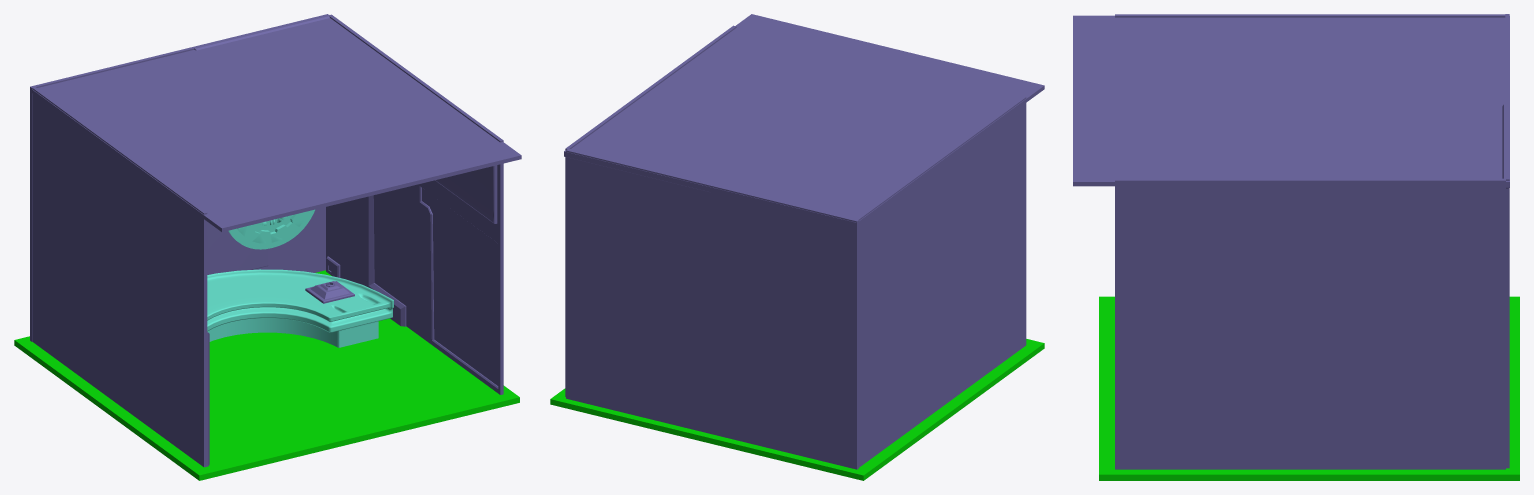
File: mesa vr.fbx
3 renders of one model, left to right at view 1: azimuth 30°, elevation 25°; view 2: azimuth 150°, elevation 25°; view 3: azimuth 270°, elevation 25°, orthographic. The views are drawn at different scales.
Parts seen in each view (by area): view 1: pCube10, pCube7, pCube9, pCube8, pPipe2, pCube6, pasted__polySurface271, polySurface5; view 2: pCube6, pCube10, pCube7, pCube9, pCube8; view 3: pCube8, pCube10, pCube9, pCube6, pCube7.
Part boxes in pixels (bbox=[...]): pCube10: bbox=[32, 18, 521, 231]; pCube7: bbox=[32, 87, 209, 467]; pCube9: bbox=[14, 270, 519, 480]; pCube8: bbox=[326, 14, 503, 394]; pPipe2: bbox=[207, 269, 393, 347]; pCube6: bbox=[30, 14, 329, 341]; pasted__polySurface271: bbox=[228, 209, 314, 249]; polySurface5: bbox=[305, 281, 354, 303]; pCube6: bbox=[566, 149, 858, 469]; pCube10: bbox=[564, 14, 1044, 226]; pCube7: bbox=[855, 96, 1026, 467]; pCube9: bbox=[550, 339, 1044, 480]; pCube8: bbox=[565, 25, 736, 396]; pCube8: bbox=[1115, 178, 1505, 469]; pCube10: bbox=[1073, 15, 1509, 188]; pCube9: bbox=[1099, 296, 1519, 480]; pCube6: bbox=[1502, 14, 1509, 468]; pCube7: bbox=[1115, 14, 1505, 17].
Bounding box in the file's own units: 25.95 × 20.08 × 27.54.
